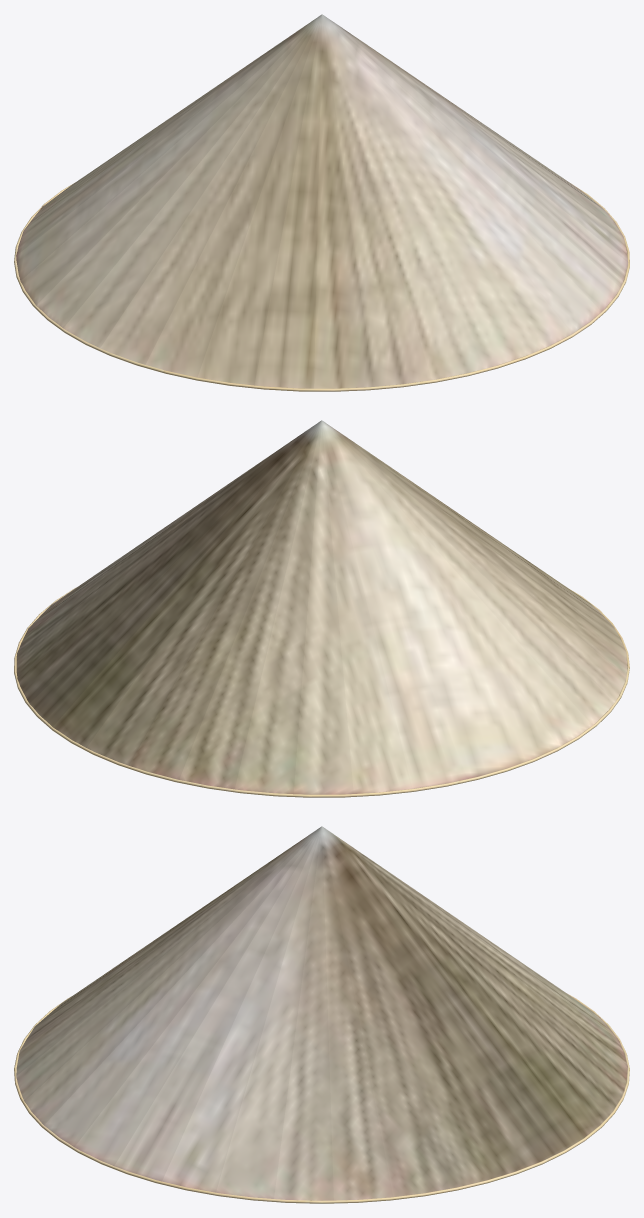
File: vn_non_la.glb
3 views of the same model, one above another, from view 1: azimuth 30°, elevation 25°; view 2: azimuth 150°, elevation 25°; view 3: azimuth 270°, elevation 25° (orthographic).
Visible parts, largest first — view 1: Cone_fRONT_0, Torus.003_cay_0; view 2: Cone_fRONT_0, Torus.003_cay_0; view 3: Cone_fRONT_0, Torus.003_cay_0.
Boxes of the visible parts, x1=… form: Cone_fRONT_0: x1=16, y1=14, x2=628, y2=388; Torus.003_cay_0: x1=14, y1=183, x2=629, y2=391; Cone_fRONT_0: x1=16, y1=420, x2=627, y2=794; Torus.003_cay_0: x1=14, y1=587, x2=629, y2=797; Cone_fRONT_0: x1=16, y1=826, x2=627, y2=1200; Torus.003_cay_0: x1=14, y1=994, x2=629, y2=1203.
Size of the model in its own units: 0.4598 by 0.2042 by 0.46.
Materials: 3 (3 with a texture image).
